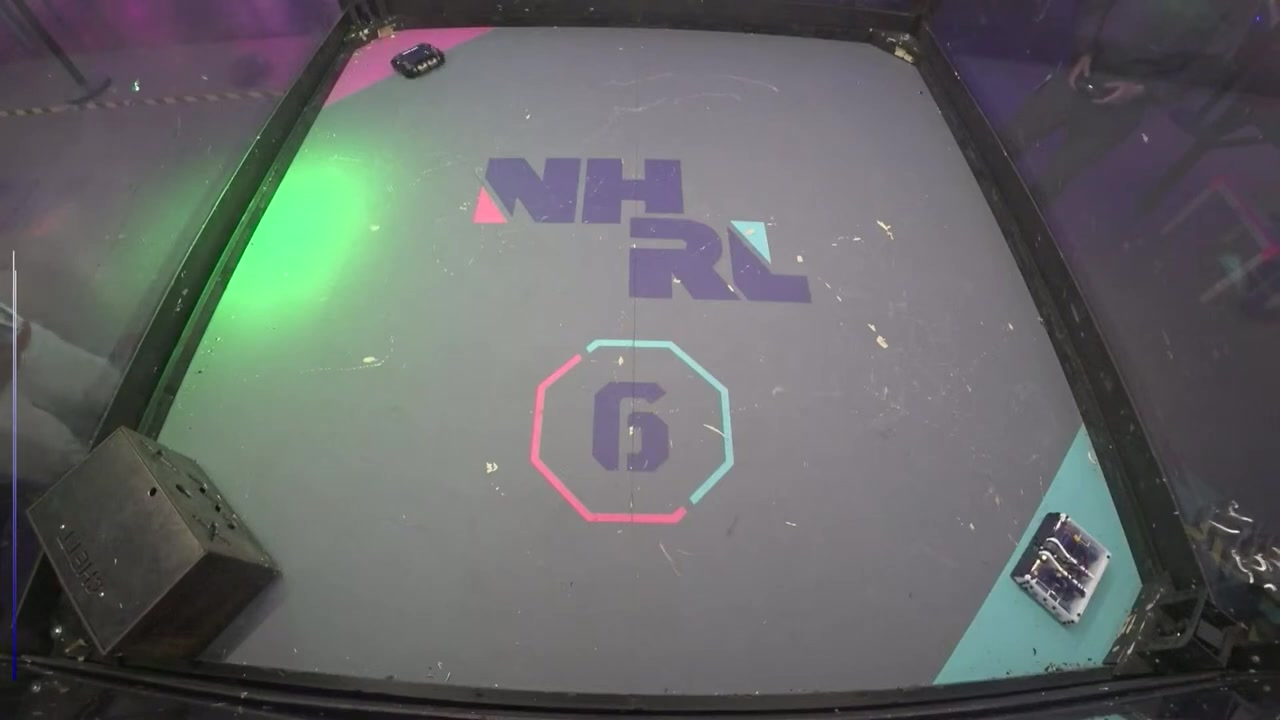combatbot: (1010, 512, 1112, 629), (389, 44, 448, 79)
housebot: (26, 426, 282, 662)
